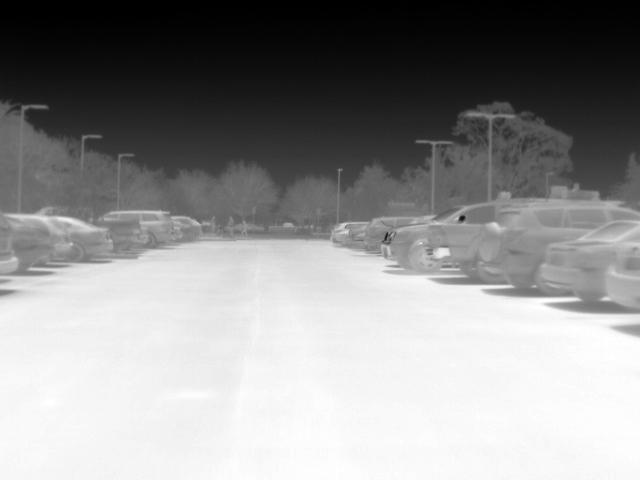car: (476, 204, 637, 292), (379, 202, 536, 273), (540, 219, 637, 304), (423, 221, 508, 284), (2, 217, 57, 276), (44, 218, 114, 264), (603, 237, 638, 315), (104, 210, 175, 248), (93, 218, 147, 253), (365, 218, 416, 252), (0, 221, 18, 280), (330, 219, 365, 245), (166, 216, 202, 241), (347, 227, 367, 248)
person: (239, 217, 249, 238), (224, 218, 232, 237)
